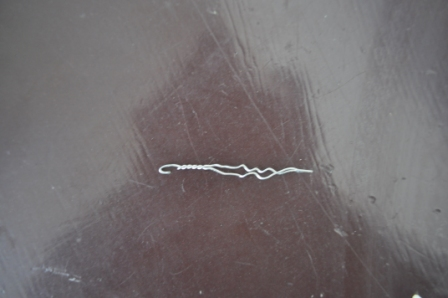METAL WIRE: (158, 163, 314, 181)
